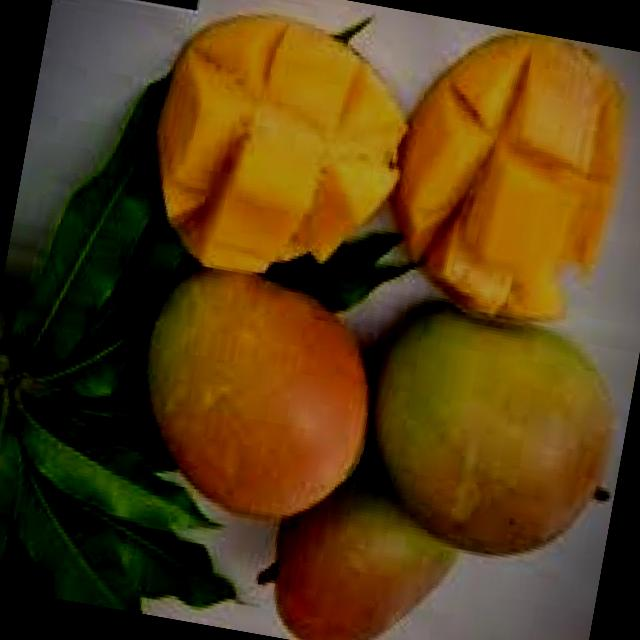Mango: (134, 0, 426, 300), (372, 20, 638, 338), (348, 296, 634, 579), (119, 258, 393, 540), (249, 437, 475, 640)
